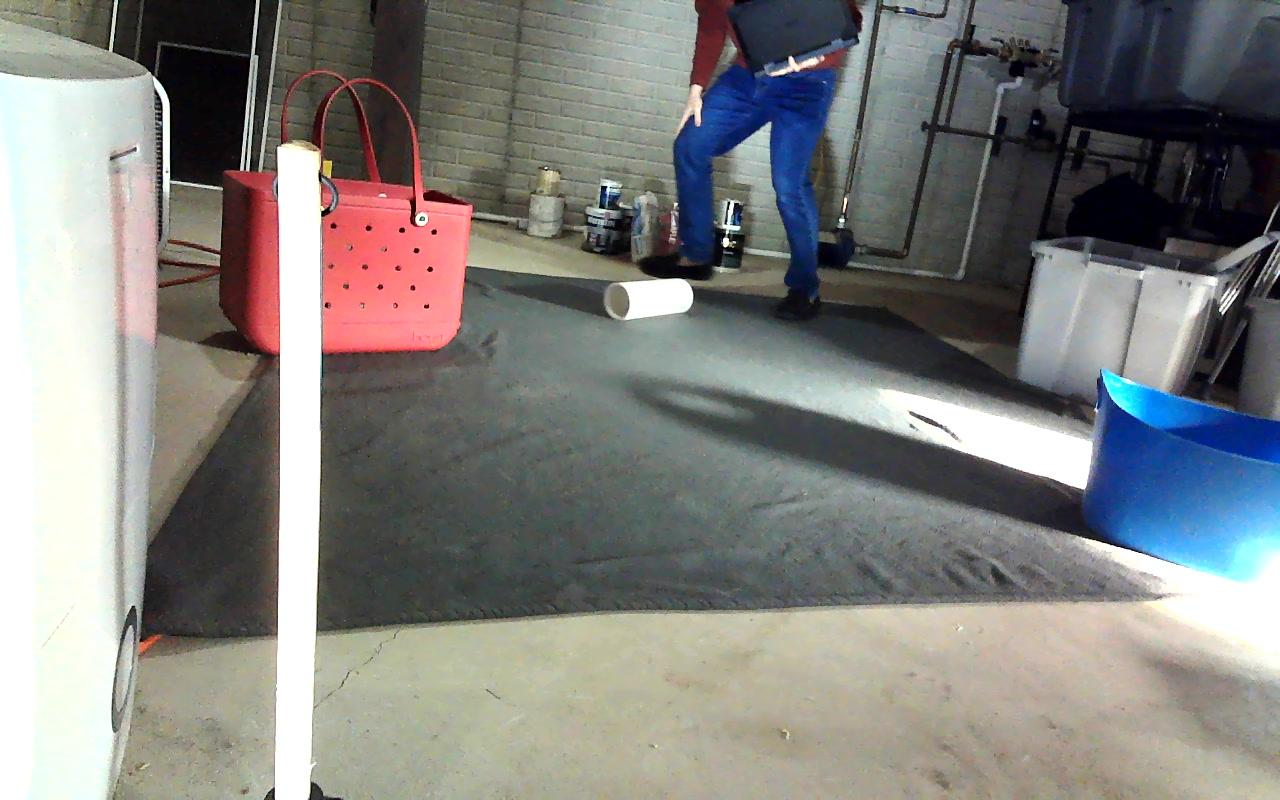coral: (604, 279, 691, 320)
